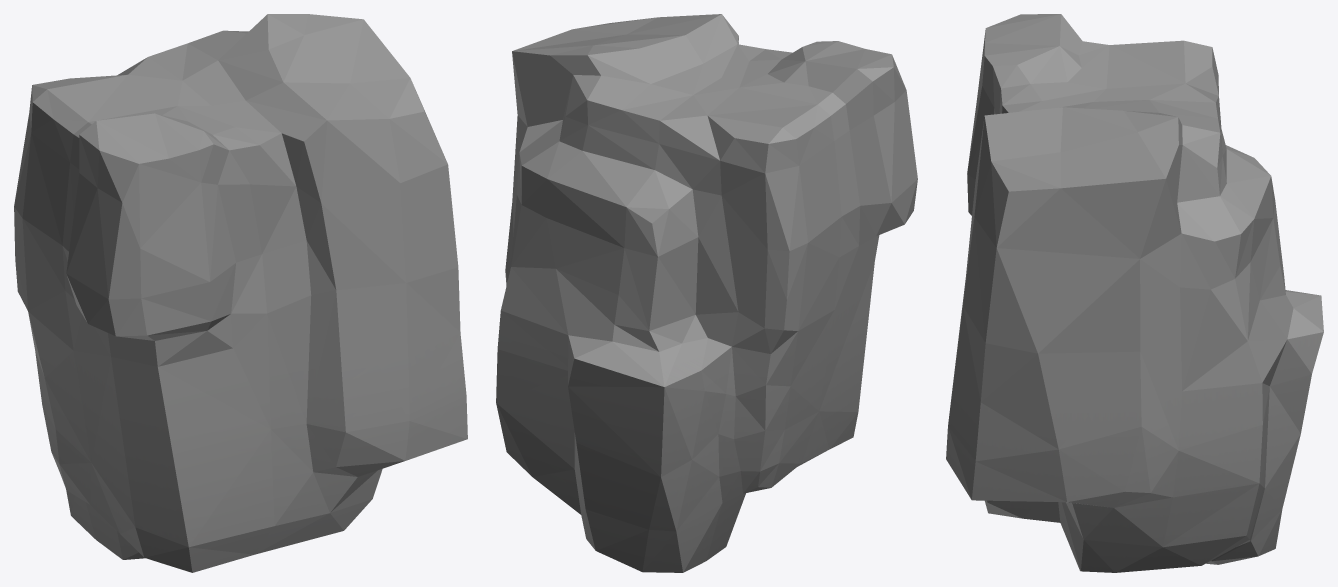
The model's file is Jungle_Cliff_C.fbx.
3 views of the same model, side by side, from view 1: azimuth 30°, elevation 25°; view 2: azimuth 150°, elevation 25°; view 3: azimuth 270°, elevation 25° (orthographic). The views are drawn at different scales.
Parts seen in each view (by area): view 1: Jungle_Cliff_C; view 2: Jungle_Cliff_C; view 3: Jungle_Cliff_C.
Boxes of the visible parts, x1=… form: Jungle_Cliff_C: x1=14, y1=14, x2=467, y2=572; Jungle_Cliff_C: x1=496, y1=14, x2=917, y2=572; Jungle_Cliff_C: x1=946, y1=14, x2=1323, y2=572.
Size of the model in its own units: 21.37 by 27.28 by 19.5.
